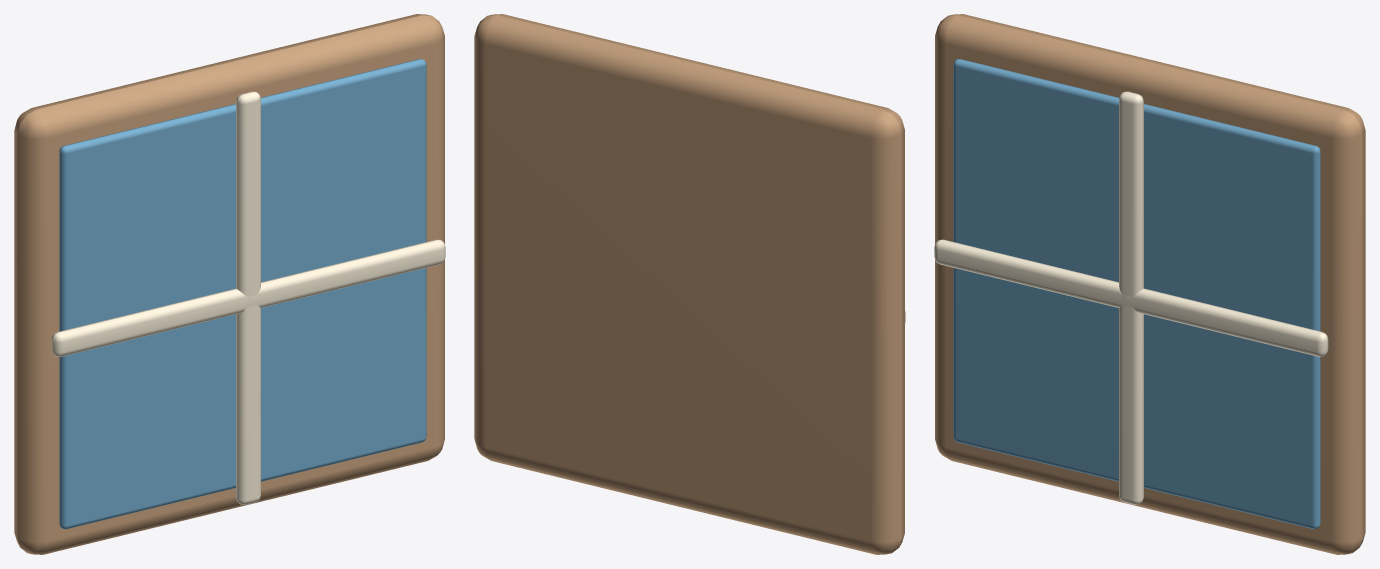
File: word-window.glb
The picture shows the model from 3 angles, left to right: view 1: azimuth 30°, elevation 25°; view 2: azimuth 150°, elevation 25°; view 3: azimuth 330°, elevation 25°; orthographic projection.
Visible parts, largest first — view 1: window glass, window frame, window crossbar, window crossbar.001; view 2: window frame; view 3: window glass, window frame, window crossbar, window crossbar.001.
Boxes of the visible parts, x1,y1,x2,y2 form: window glass: [59, 59, 426, 529]; window frame: [14, 14, 444, 554]; window crossbar: [51, 239, 445, 356]; window crossbar.001: [236, 91, 260, 504]; window frame: [474, 14, 904, 554]; window glass: [953, 59, 1320, 529]; window frame: [935, 14, 1365, 554]; window crossbar: [934, 239, 1328, 356]; window crossbar.001: [1119, 91, 1143, 504].
Bounding box in the file's own units: 1.3 × 1.3 × 0.18.
